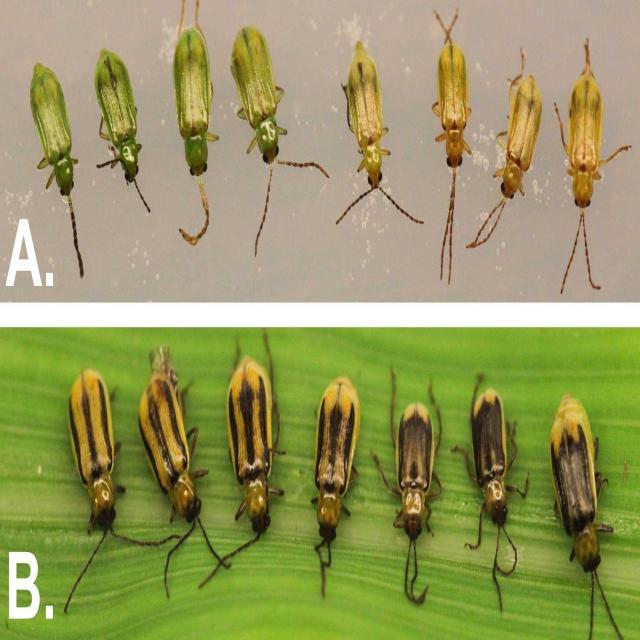gusano_gris: (230, 12, 330, 264), (470, 12, 556, 270), (338, 14, 426, 228), (161, 13, 220, 255), (562, 41, 618, 292), (20, 56, 87, 242), (90, 45, 154, 219), (434, 4, 469, 289)
trips: (374, 358, 457, 626), (547, 365, 624, 640), (213, 331, 288, 591), (61, 365, 140, 593), (462, 369, 528, 606), (137, 358, 200, 598), (310, 366, 358, 598)
